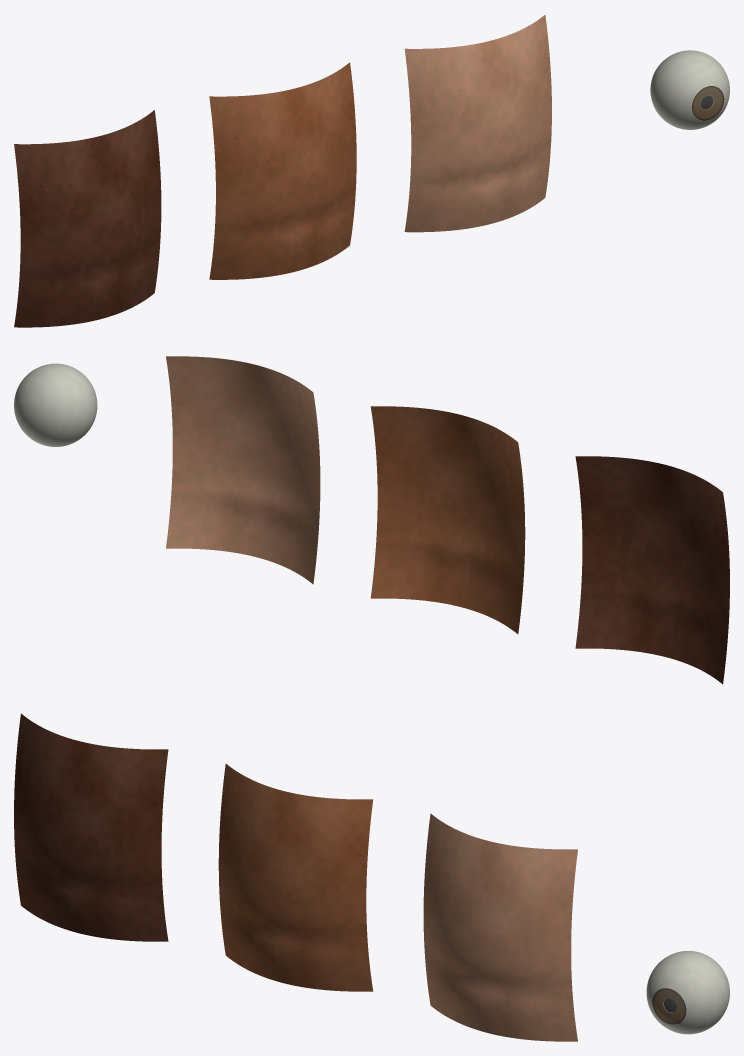
File: skin-eyes-calibration-v1.glb
3 views of the same model, one above another, from view 1: azimuth 30°, elevation 25°; view 2: azimuth 150°, elevation 25°; view 3: azimuth 330°, elevation 25° (orthographic). The views are drawn at different scales.
Parts seen in each view (by area): view 1: SkinPatch_01_umber, SkinPatch_02_copper, SkinPatch_03_rose, Eye_ScleralShell_24mm, Eye_CorneaCap, Eye_ConcaveIris_11p2mm; view 2: SkinPatch_03_rose, SkinPatch_02_copper, SkinPatch_01_umber, Eye_ScleralShell_24mm; view 3: SkinPatch_03_rose, SkinPatch_02_copper, SkinPatch_01_umber, Eye_ScleralShell_24mm, Eye_CorneaCap, Eye_ConcaveIris_11p2mm.
Boxes of the visible parts, x1=… form: SkinPatch_01_umber: x1=14, y1=110, x2=161, y2=327; SkinPatch_02_copper: x1=209, y1=62, x2=356, y2=279; SkinPatch_03_rose: x1=404, y1=15, x2=551, y2=232; Eye_ScleralShell_24mm: x1=650, y1=50, x2=729, y2=129; Eye_CorneaCap: x1=692, y1=86, x2=723, y2=119; Eye_ConcaveIris_11p2mm: x1=692, y1=86, x2=724, y2=120; SkinPatch_03_rose: x1=166, y1=356, x2=320, y2=584; SkinPatch_02_copper: x1=370, y1=406, x2=525, y2=634; SkinPatch_01_umber: x1=575, y1=456, x2=729, y2=684; Eye_ScleralShell_24mm: x1=14, y1=363, x2=97, y2=446; SkinPatch_03_rose: x1=423, y1=813, x2=577, y2=1041; SkinPatch_02_copper: x1=218, y1=763, x2=373, y2=991; SkinPatch_01_umber: x1=14, y1=713, x2=168, y2=941; Eye_ScleralShell_24mm: x1=646, y1=951, x2=729, y2=1034; Eye_CorneaCap: x1=653, y1=988, x2=686, y2=1024; Eye_ConcaveIris_11p2mm: x1=652, y1=988, x2=686, y2=1024.
Bounding box in the file's own units: 0.2405 × 0.061 × 0.0248.
7 materials, 5 textured.
